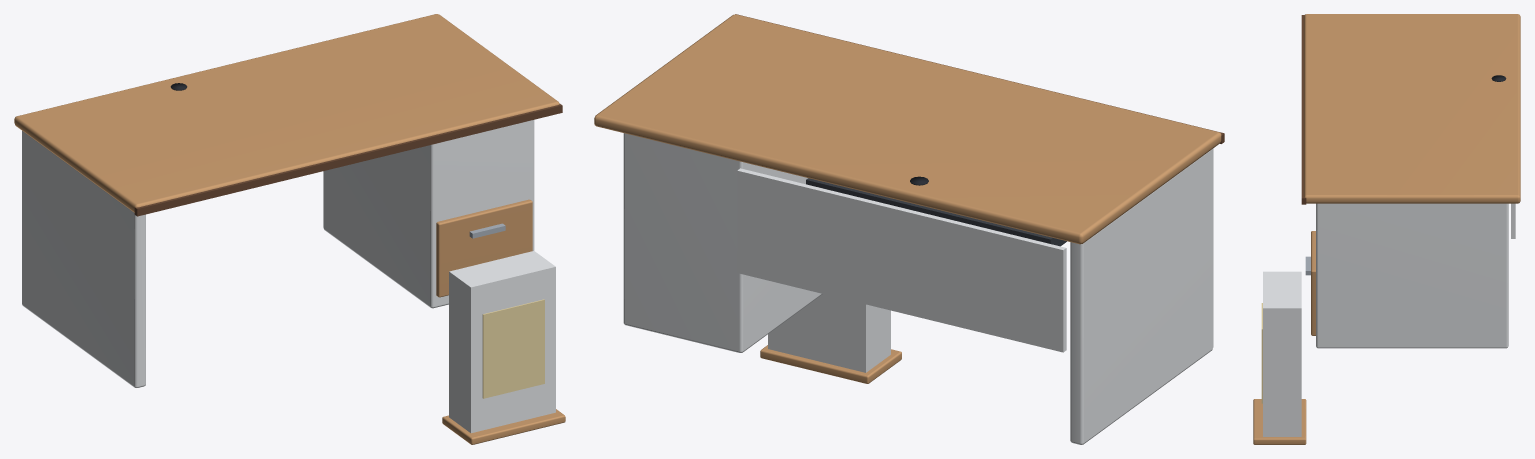
File: Desk.fbx
3 views of the same model, side by side, from view 1: azimuth 30°, elevation 25°; view 2: azimuth 150°, elevation 25°; view 3: azimuth 270°, elevation 25° (orthographic). The views are drawn at different scales.
Visible parts, largest first — view 1: DeskBody, DrawerBody; view 2: DeskBody, DrawerBody; view 3: DeskBody, DrawerBody.
Part boxes in pixels (left/top/right/bottom): DeskBody: left=14, top=14, right=562, bottom=387; DrawerBody: left=442, top=251, right=565, bottom=444; DeskBody: left=594, top=14, right=1224, bottom=444; DrawerBody: left=760, top=294, right=901, bottom=383; DeskBody: left=1301, top=14, right=1520, bottom=348; DrawerBody: left=1253, top=271, right=1306, bottom=444.
Bounding box in the file's own units: 1.8 × 1.22 × 1.11.
